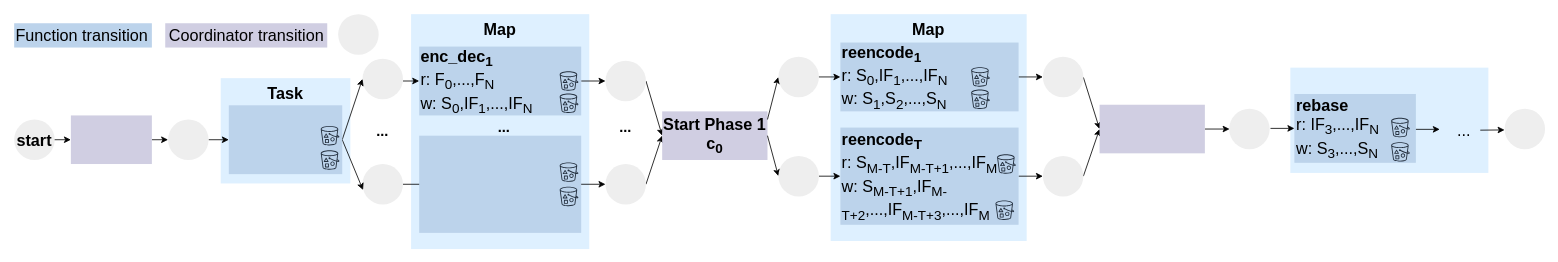
Some shapes in this 1558 by 262 pixel diagram are drawn without their labels. Here are the shapes that lost their labels. From the top down, the box of each, then its label:
(338, 14, 378, 54): place
(70, 115, 151, 164): c 0
(228, 105, 342, 174): split r: frames w: F 0 ,...,F M
(1099, 104, 1204, 153): Start Phase 2 c 0
(1290, 67, 1488, 173): Loop
(419, 135, 581, 232): enc_dec T r: F M-T ,...,F M w: S M-T , IF M-T+1 ,...,IF M
